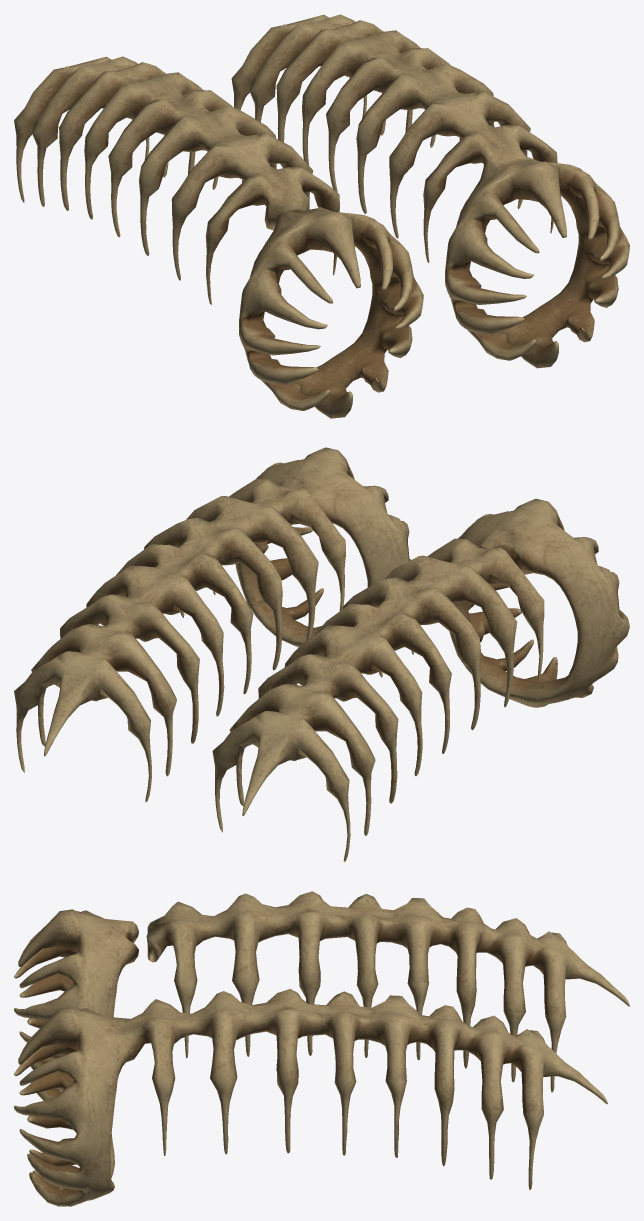
Rendered from worm_fossile_var.fbx.
3 renders of one model, top to bottom at view 1: azimuth 30°, elevation 25°; view 2: azimuth 150°, elevation 25°; view 3: azimuth 270°, elevation 25°, orthographic. The views are drawn at different scales.
Parts seen in each view (by area): view 1: worm_l, worm_spine_l, worm_head_l; view 2: worm_l, worm_spine_l, worm_head_l; view 3: worm_l, worm_spine_l, worm_head_l.
Boxes of the visible parts, left/top/right/bottom form: worm_l: left=231, top=14, right=629, bottom=368; worm_spine_l: left=14, top=56, right=339, bottom=304; worm_head_l: left=239, top=207, right=423, bottom=418; worm_l: left=14, top=447, right=410, bottom=802; worm_spine_l: left=212, top=538, right=544, bottom=862; worm_head_l: left=449, top=498, right=629, bottom=707; worm_l: left=14, top=989, right=607, bottom=1206; worm_spine_l: left=146, top=891, right=629, bottom=1092; worm_head_l: left=14, top=909, right=138, bottom=1100.
Bounding box in the file's own units: 3334 × 1764 × 4757.
Materials: 1 (1 with a texture image).
